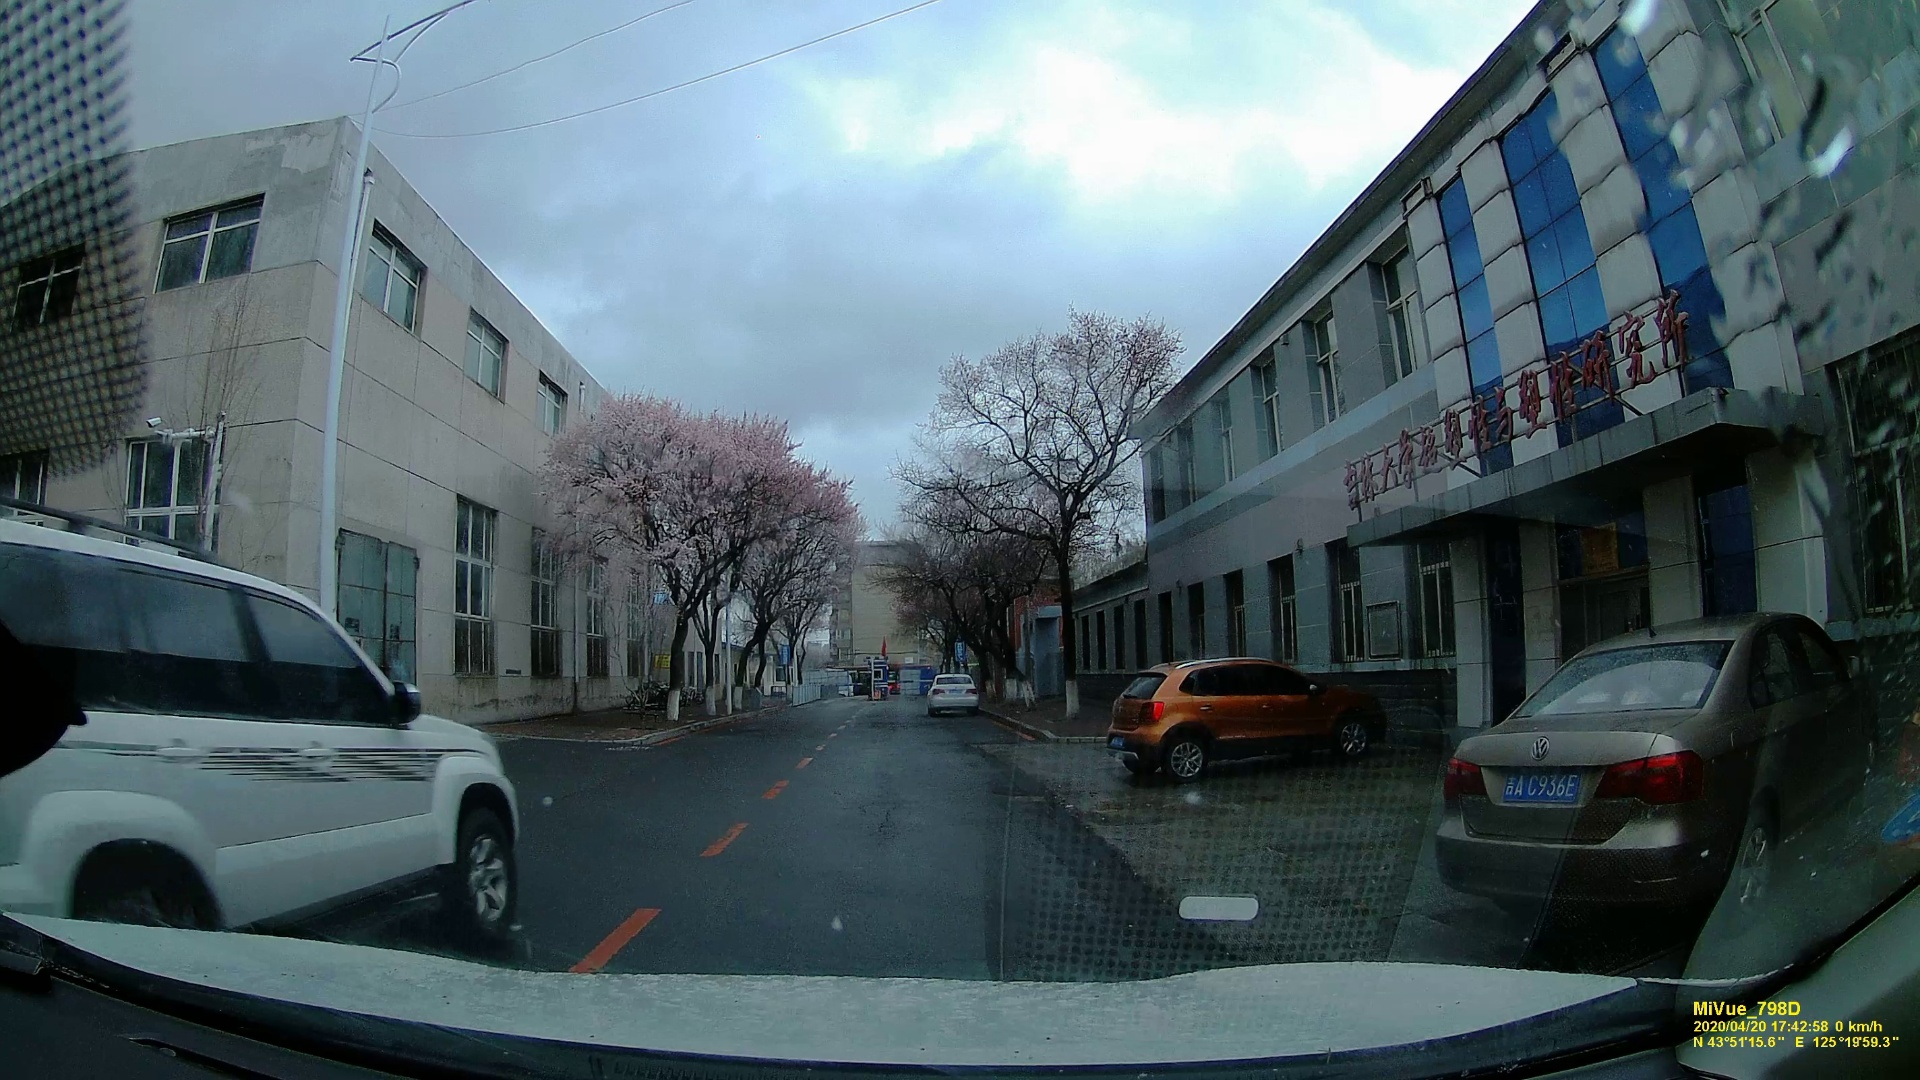vehicle: (9, 504, 560, 924), (1437, 607, 1902, 927), (1108, 655, 1374, 777), (924, 674, 981, 716)
